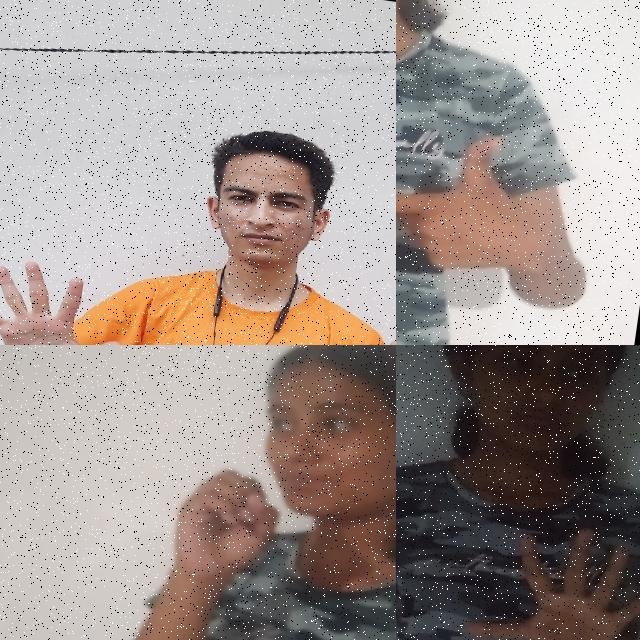Fist Mouth: (158, 345, 396, 635)
Five Fathers: (396, 90, 554, 290)
Moutza: (452, 504, 640, 640), (0, 246, 140, 345)
